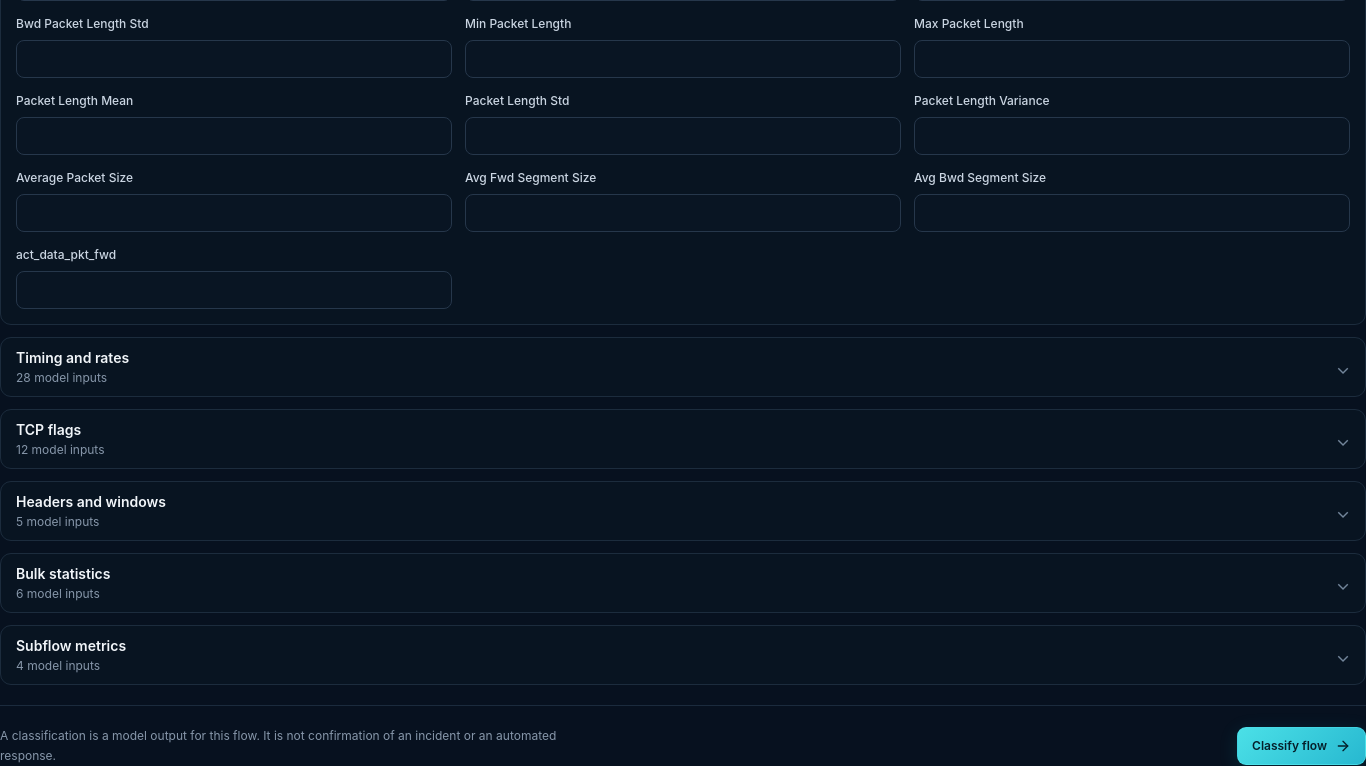
Test: React feature and result components › shows validation errors instead of submitting incomplete values
(page scrolled)
Step 1. Click the button "Classify flow" → (1302,746), box [1237,727,1365,765]
(page scrolled)
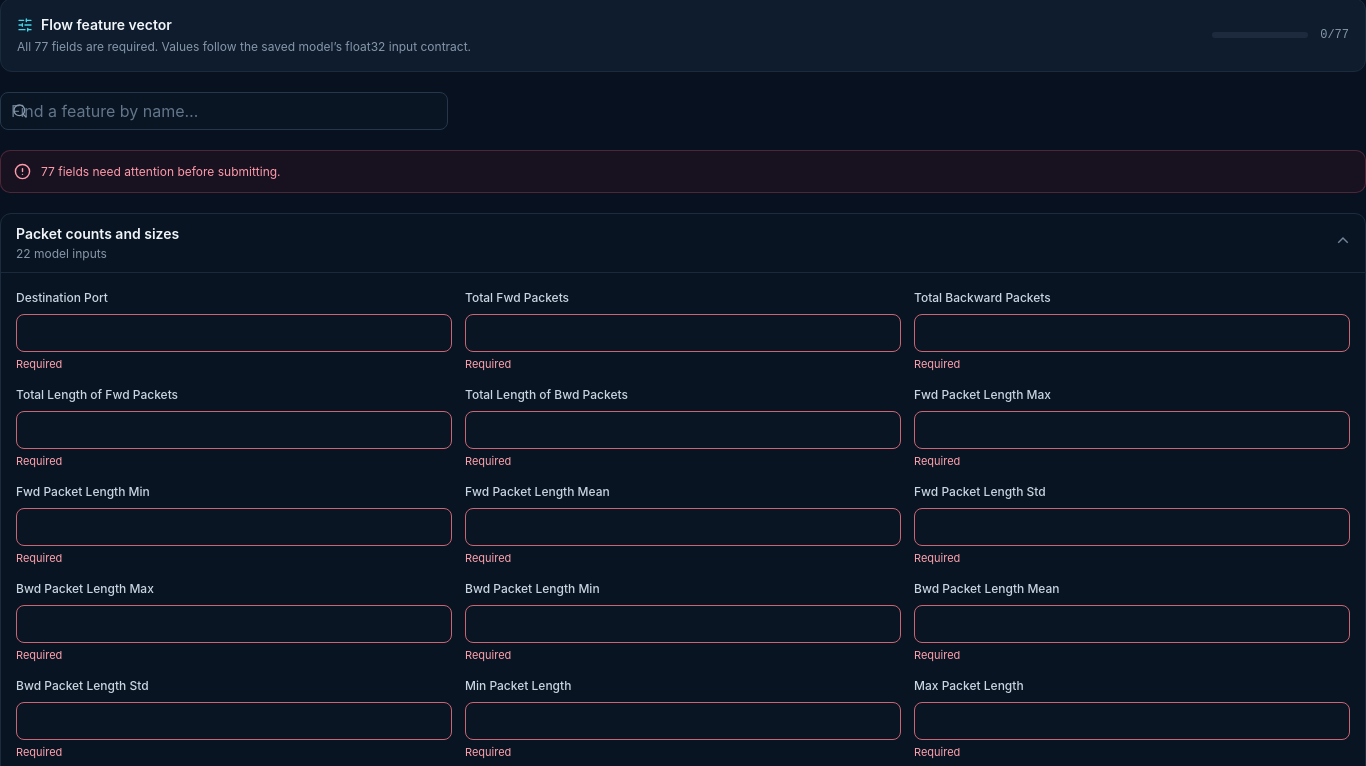
Expected: the message shows "77 fields need attention", [0,150,1365,193]
